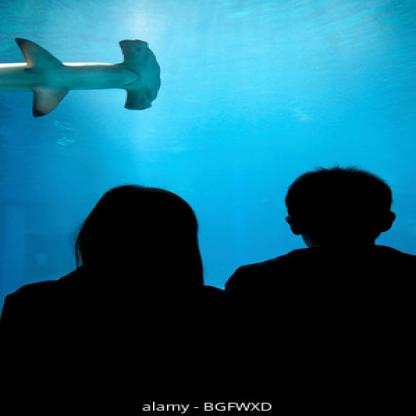hammerhead_Shark: (0, 21, 198, 122)
